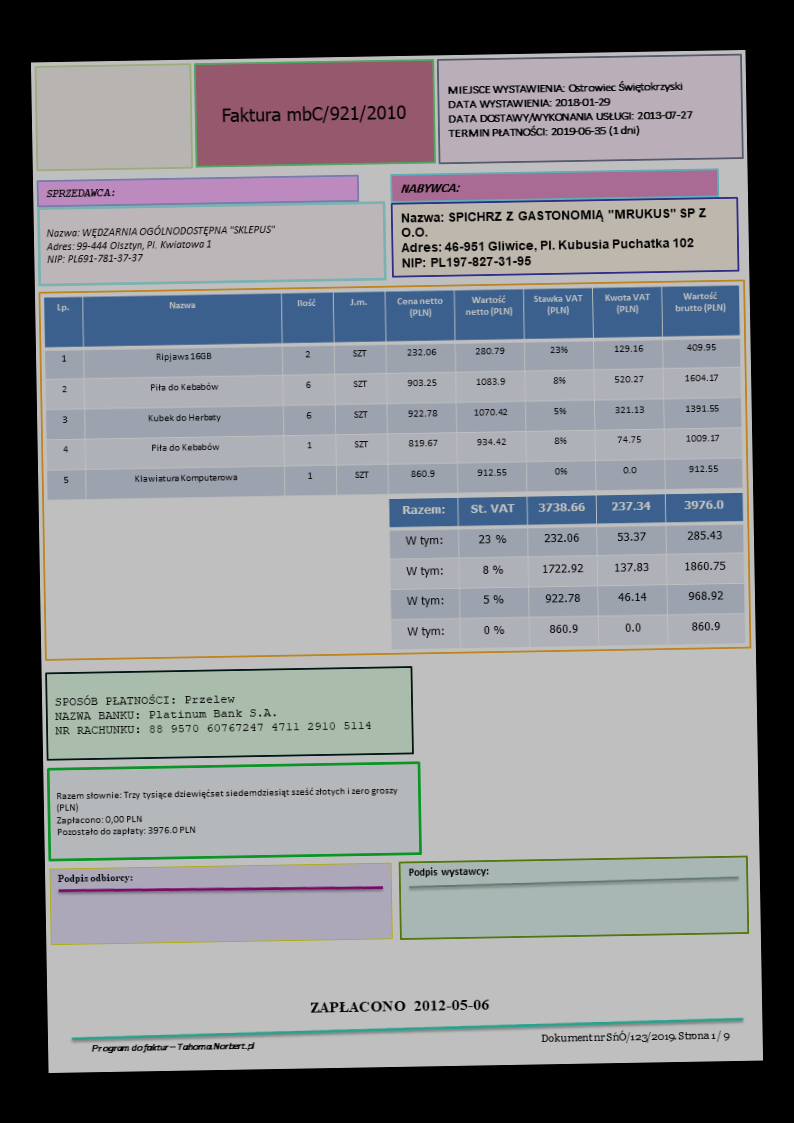Table: (41, 283, 745, 503), (388, 492, 749, 650)
TextBox: (395, 202, 711, 274), (53, 782, 402, 841), (52, 686, 374, 742), (443, 77, 697, 143), (43, 217, 281, 268), (212, 95, 409, 130), (537, 1026, 733, 1050), (307, 995, 495, 1019), (88, 1034, 261, 1056), (54, 867, 135, 888), (404, 863, 493, 882), (397, 176, 462, 199), (40, 183, 115, 202)
